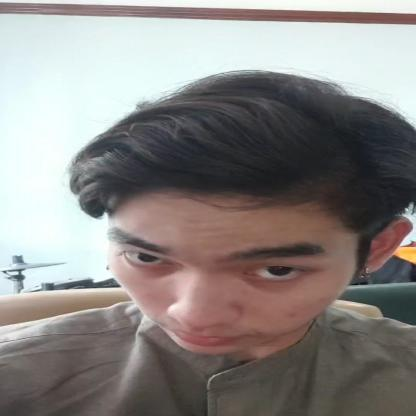Palm: (36, 58, 415, 369)
